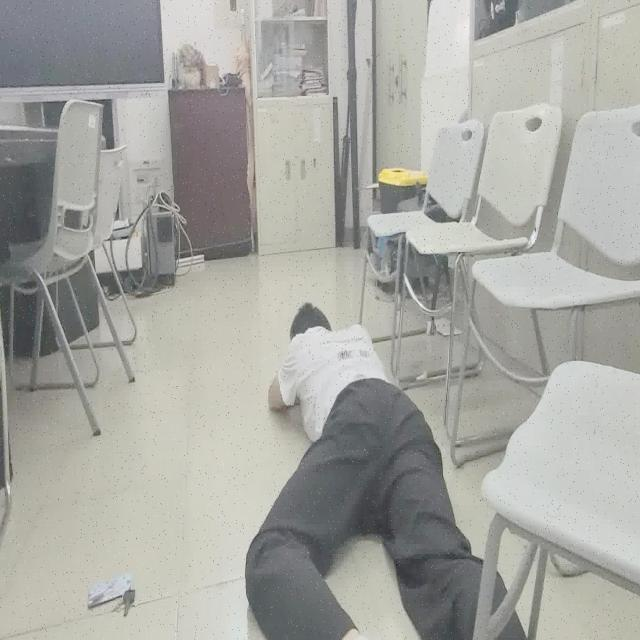fall: (245, 299, 530, 639)
